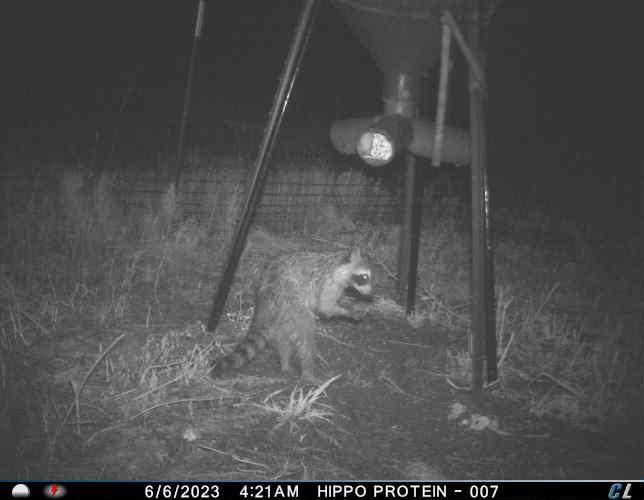Raccoon: (216, 243, 375, 382)
